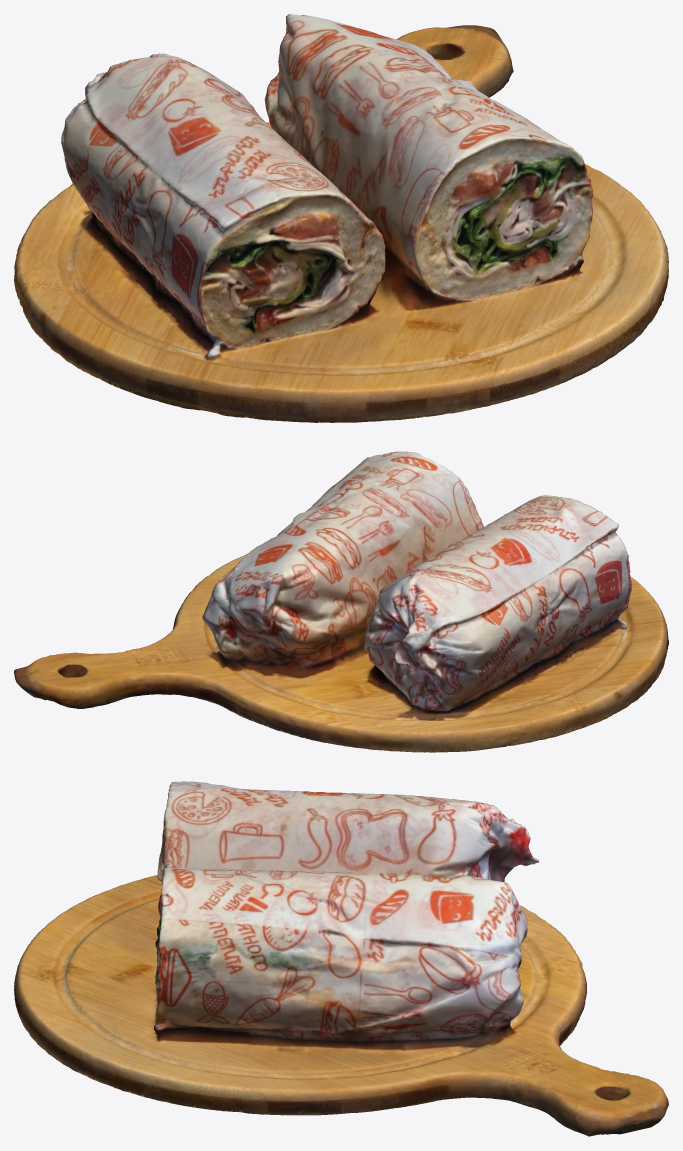
The model's file is Sandwich.jambon.morgh.glb.
3 renders of one model, top to bottom at view 1: azimuth 30°, elevation 25°; view 2: azimuth 150°, elevation 25°; view 3: azimuth 270°, elevation 25°, orthographic. The views are drawn at different scales.
Parts seen in each view (by area): view 1: 3DModel; view 2: 3DModel; view 3: 3DModel.
Part boxes in pixels (bbox=[...]): 3DModel: bbox=[14, 14, 668, 422]; 3DModel: bbox=[14, 451, 668, 752]; 3DModel: bbox=[14, 781, 668, 1136].
Size of the model in its own units: 0.3528 by 0.1003 by 0.363.
Materials: 2 (1 with a texture image).
